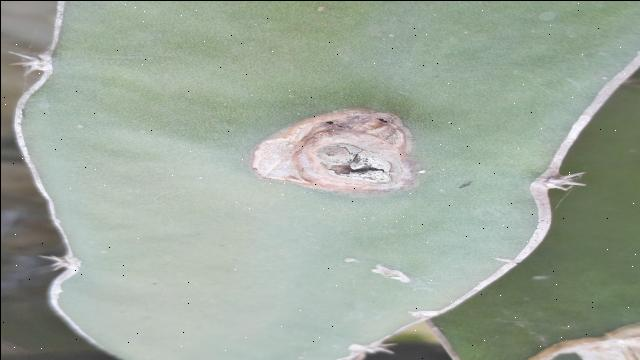stemcanker: (239, 102, 426, 204)
